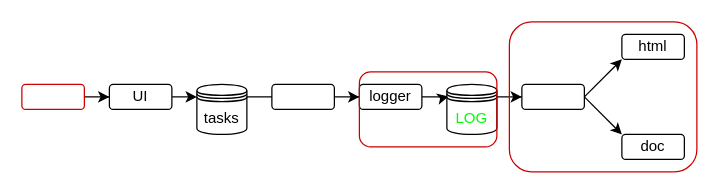
Some shapes in this 719 by 194 pixel diagram are drawn without their labels. Each missing label, with the centre of its shape:
"bash" goes at [52,96].
"report" goes at [552,96].
"worker" goes at [302,96].
